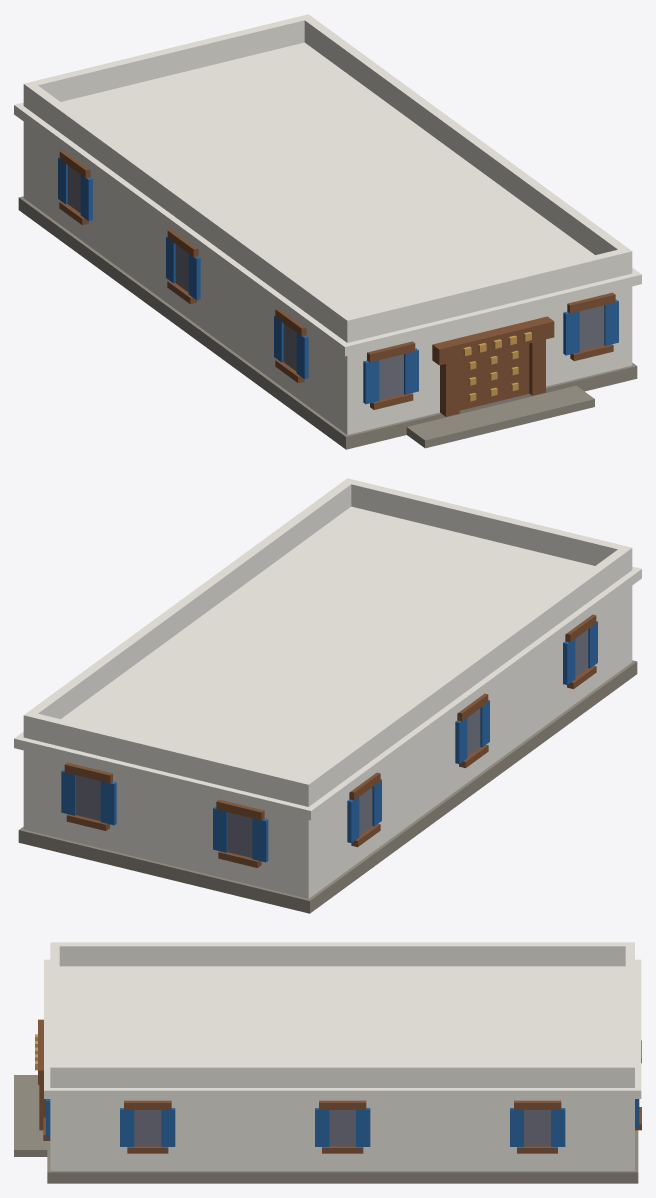
The model's file is house-1x2-1f-swahili-a.glb.
The picture shows the model from 3 angles, top to bottom: view 1: azimuth 30°, elevation 25°; view 2: azimuth 150°, elevation 25°; view 3: azimuth 270°, elevation 25°; orthographic projection. The views are drawn at different scales.
Parts seen in each view (by area): view 1: house-1x2-1f-swahili-a; view 2: house-1x2-1f-swahili-a; view 3: house-1x2-1f-swahili-a.
Part boxes in pixels (box(x1,y1,x2,y2)): house-1x2-1f-swahili-a: box(14, 14, 641, 449); house-1x2-1f-swahili-a: box(14, 478, 641, 913); house-1x2-1f-swahili-a: box(14, 942, 641, 1183).
Size of the model in its own units: 0.984 by 0.4 by 1.99.
1 material, 1 textured.
